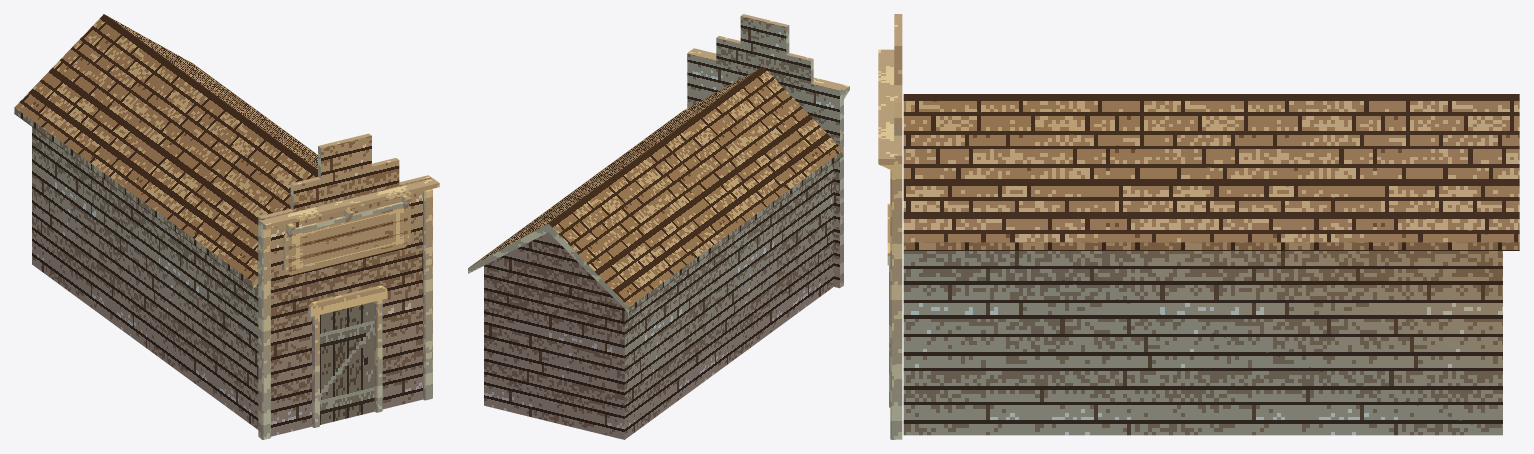
The model's file is wtown.store__narrow.glb.
The picture shows the model from 3 angles, left to right: view 1: azimuth 30°, elevation 25°; view 2: azimuth 150°, elevation 25°; view 3: azimuth 270°, elevation 25°; orthographic projection. The views are drawn at different scales.
Parts seen in each view (by area): view 1: kit_roof, kit_body, kit_front, kit_trim, kit_card_panes; view 2: kit_body, kit_roof, kit_front, kit_trim; view 3: kit_body, kit_roof, kit_trim, kit_front.
Boxes of the visible parts, x1=… form: kit_roof: x1=14, y1=14, x2=317, y2=288; kit_body: x1=32, y1=127, x2=258, y2=429; kit_front: x1=258, y1=133, x2=431, y2=437; kit_trim: x1=259, y1=178, x2=439, y2=439; kit_card_panes: x1=288, y1=207, x2=407, y2=424; kit_body: x1=484, y1=164, x2=833, y2=439; kit_roof: x1=468, y1=66, x2=843, y2=312; kit_front: x1=687, y1=14, x2=842, y2=288; kit_trim: x1=688, y1=48, x2=849, y2=286; kit_body: x1=903, y1=251, x2=1502, y2=435; kit_roof: x1=903, y1=94, x2=1519, y2=250; kit_trim: x1=878, y1=49, x2=895, y2=439; kit_front: x1=894, y1=14, x2=902, y2=439.
Bounding box in the file's own units: 4 × 5.9 × 9.63.
Materials: 5 (5 with a texture image).
